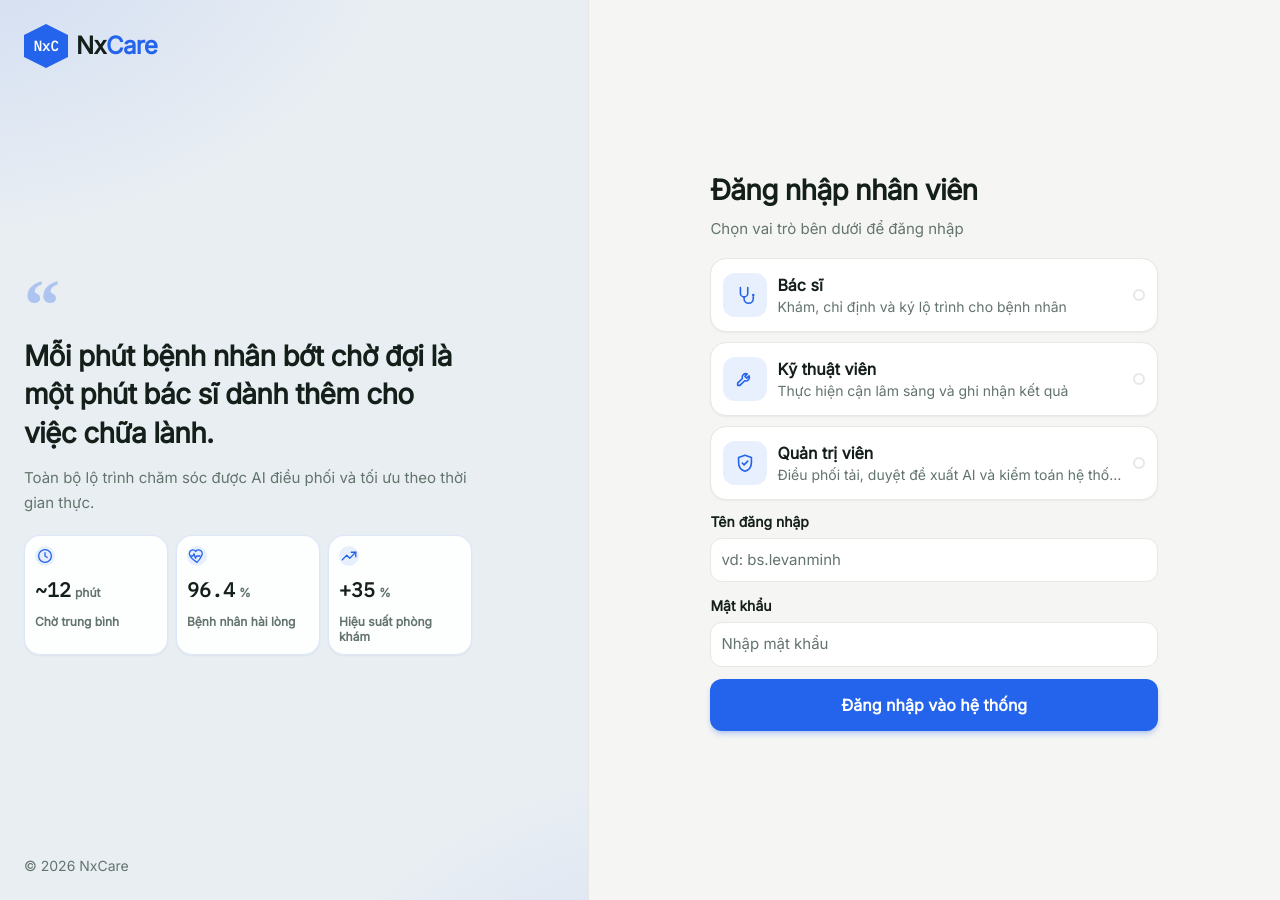
ConsoleApp (TASK-026 foundation) › selecting a role and submitting credentials logs in and lands on that role's default permitted screen
Click the button "Bác sĩ Khám, chỉ định và ký lộ trình cho bệnh nhân": (934, 295) x1=710 y1=258 x2=1158 y2=332
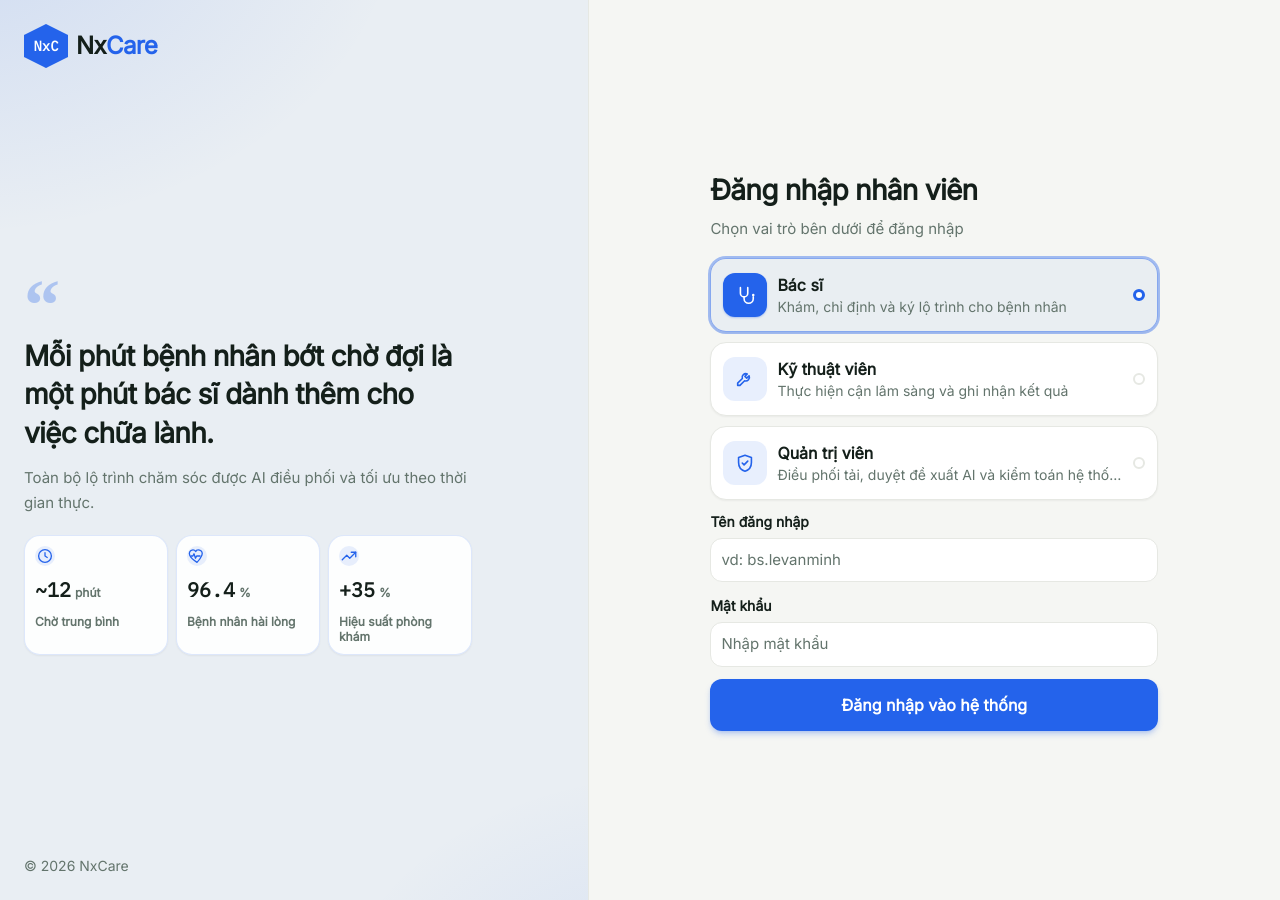
In the field labelled "Tên đăng nhập": (934, 560) x1=710 y1=538 x2=1158 y2=582, type "demo.staff"
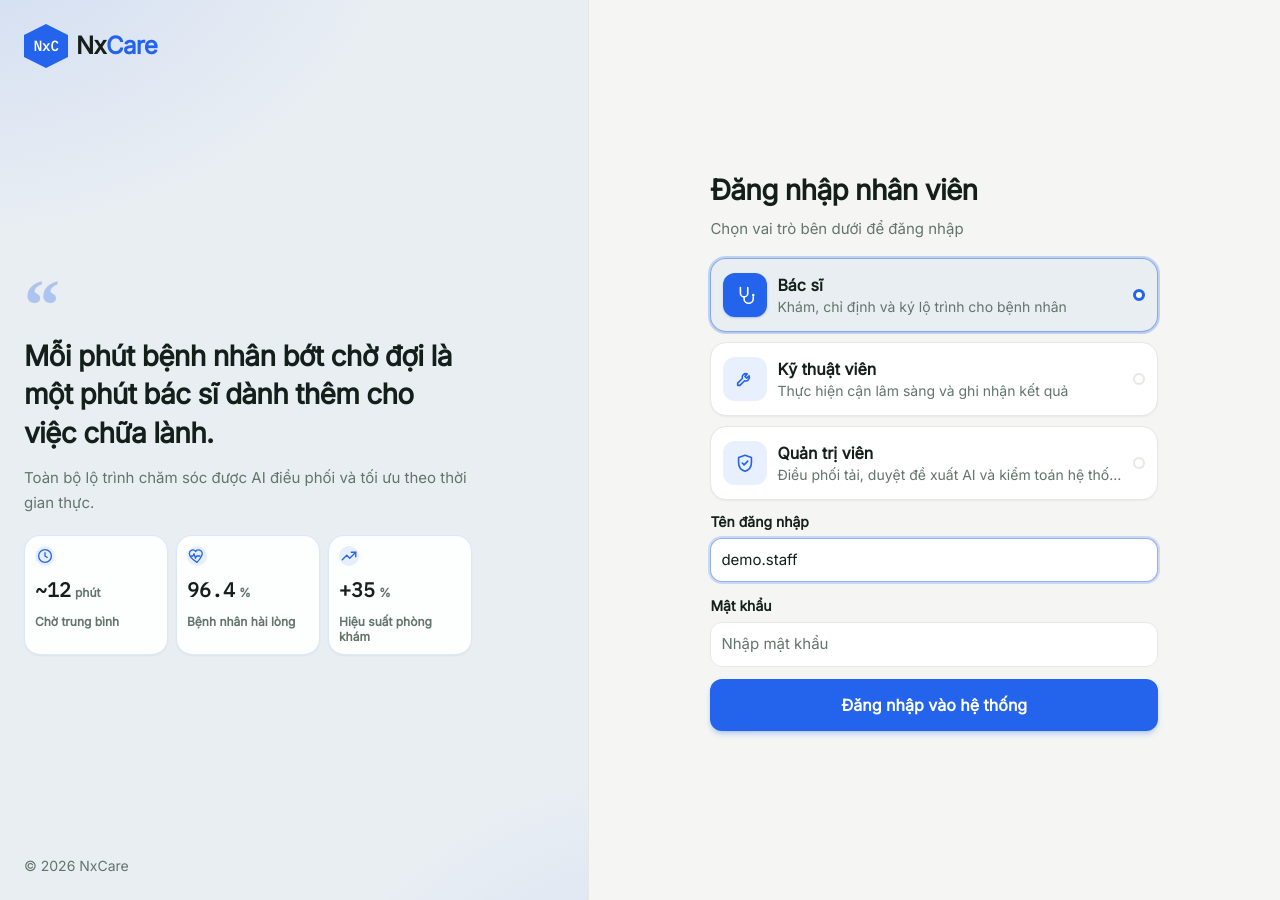
In the password field labelled "Mật khẩu": (934, 644) x1=710 y1=622 x2=1158 y2=667, type "demo-pass"
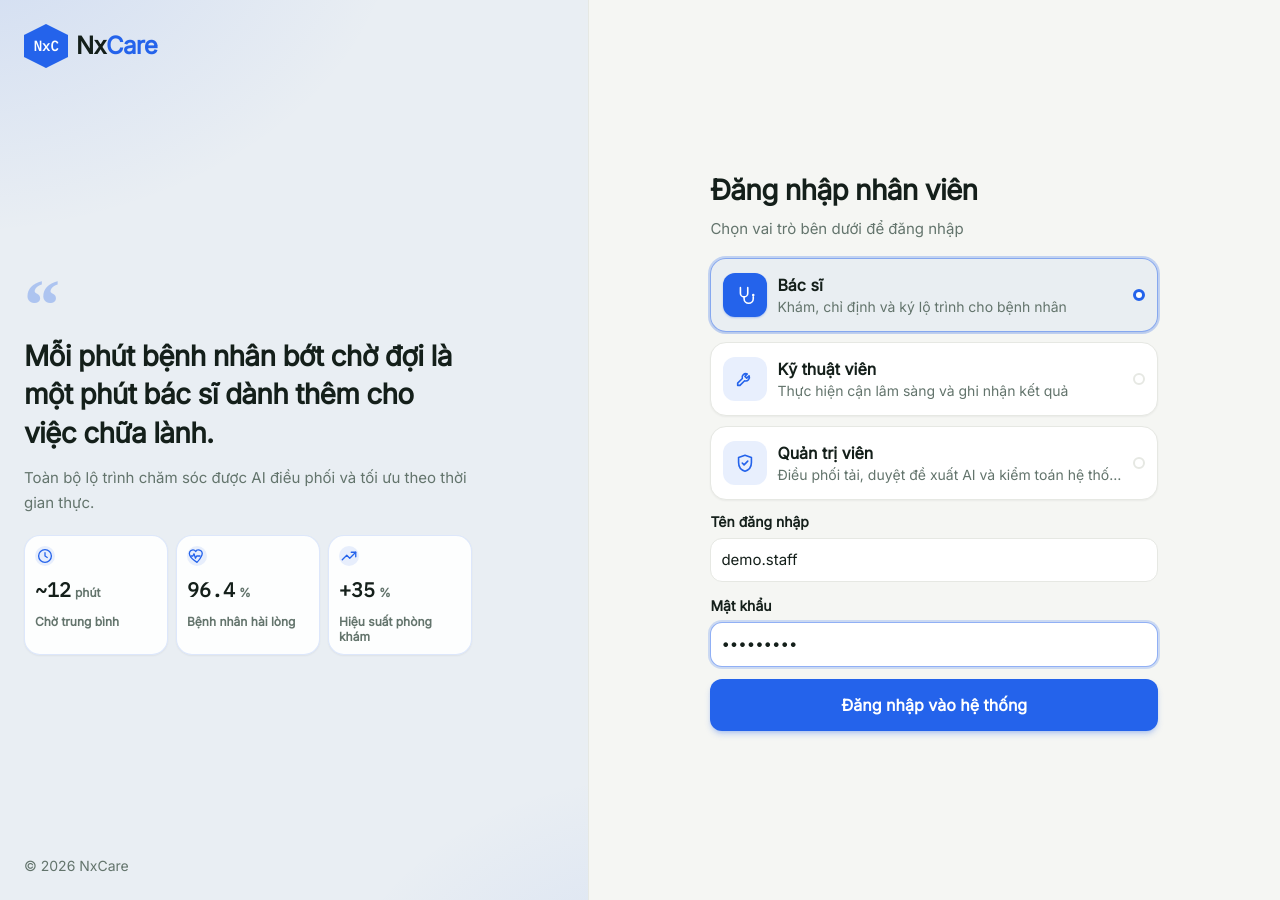
Click the button "Đăng nhập vào hệ thống": (934, 705) x1=710 y1=679 x2=1158 y2=731
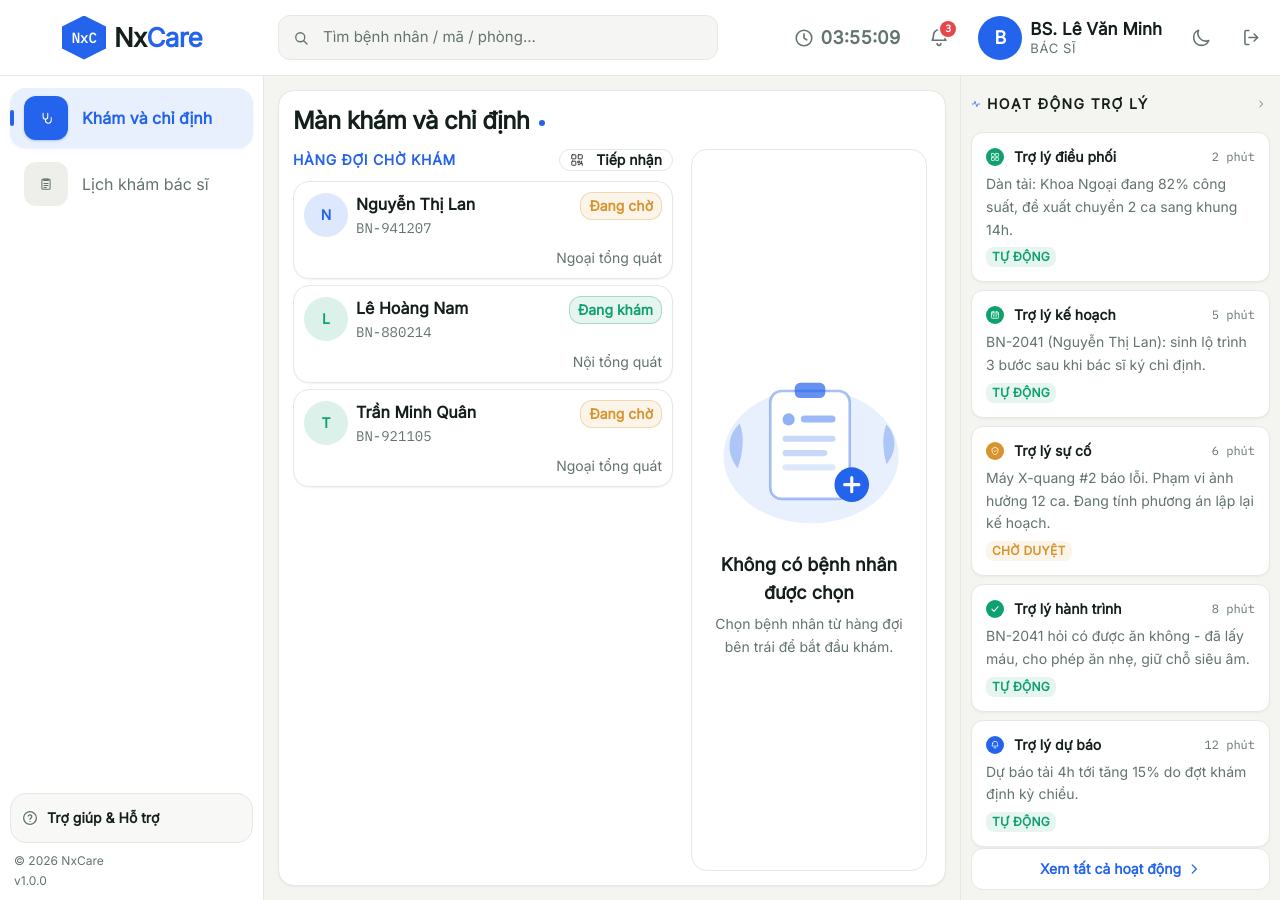
Result: the heading "Màn khám và chỉ định" is shown at x1=293 y1=106 x2=546 y2=135
